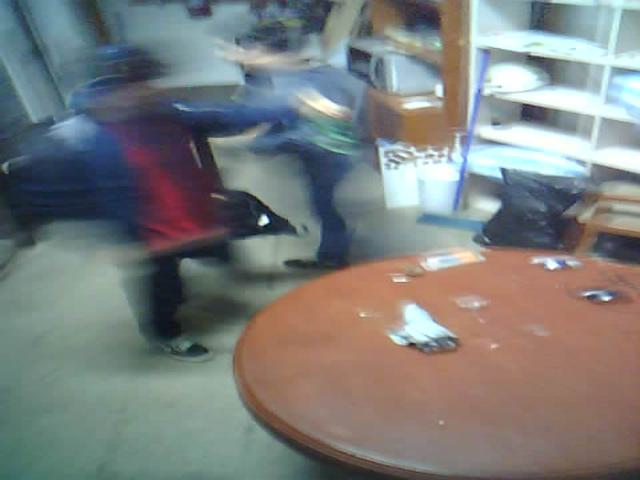person: (16, 39, 272, 383), (198, 7, 399, 287)
